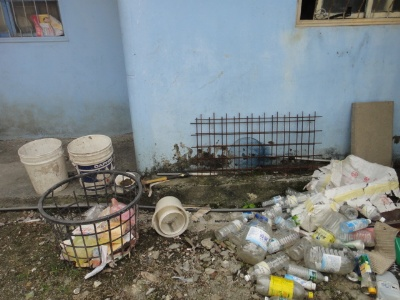bottle: (251, 273, 315, 300), (214, 215, 250, 245), (267, 230, 300, 254), (340, 214, 373, 234)
bowl: (114, 172, 138, 189)
bucket: (16, 137, 71, 196), (66, 134, 118, 190), (304, 238, 364, 279), (149, 193, 189, 238), (238, 214, 272, 266), (156, 207, 186, 234)
